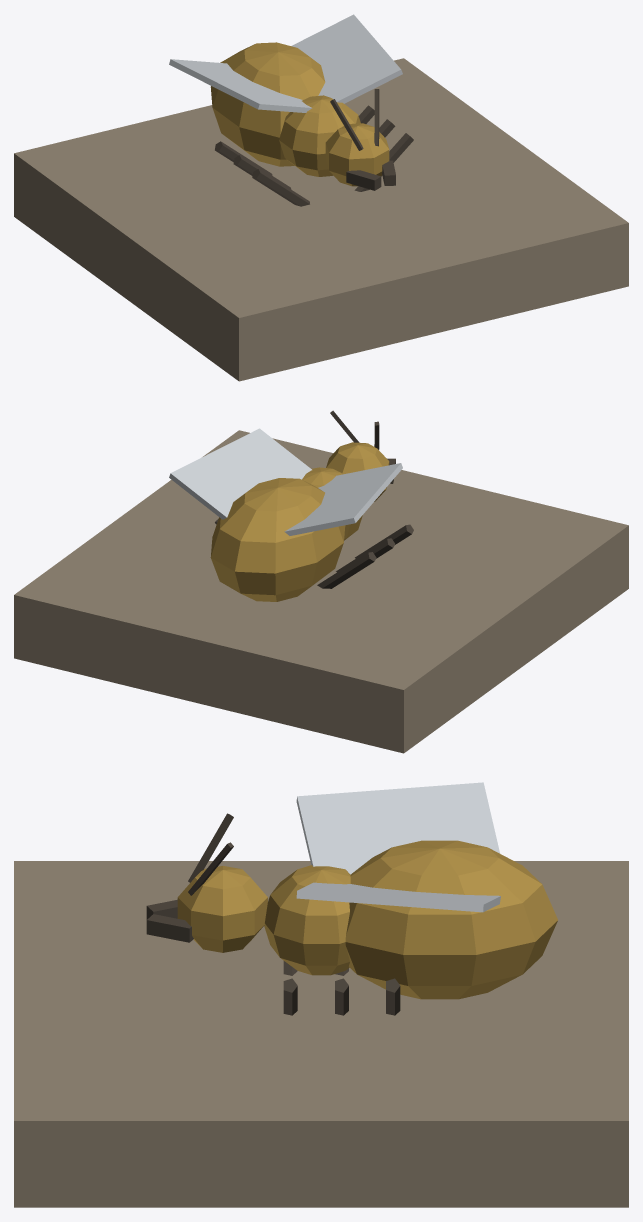
Rendered from bug_hornet.glb.
The picture shows the model from 3 angles, top to bottom: view 1: azimuth 30°, elevation 25°; view 2: azimuth 150°, elevation 25°; view 3: azimuth 270°, elevation 25°; orthographic projection. The views are drawn at different scales.
Visible parts, largest first — view 1: Base, TurretMesh, HeadMesh; view 2: Base, TurretMesh, HeadMesh; view 3: Base, TurretMesh, HeadMesh.
Part boxes in pixels (left/top/right/bottom): Base: left=14, top=58, right=628, bottom=381; TurretMesh: left=169, top=14, right=413, bottom=206; HeadMesh: left=325, top=89, right=395, bottom=190; Base: left=14, top=430, right=628, bottom=753; TurretMesh: left=169, top=428, right=413, bottom=601; HeadMesh: left=326, top=410, right=395, bottom=501; Base: left=14, top=861, right=628, bottom=1207; TurretMesh: left=264, top=782, right=557, bottom=1015; HeadMesh: left=146, top=813, right=267, bottom=952.
Bounding box in the file's own units: 1.8 × 0.8045 × 1.8.
